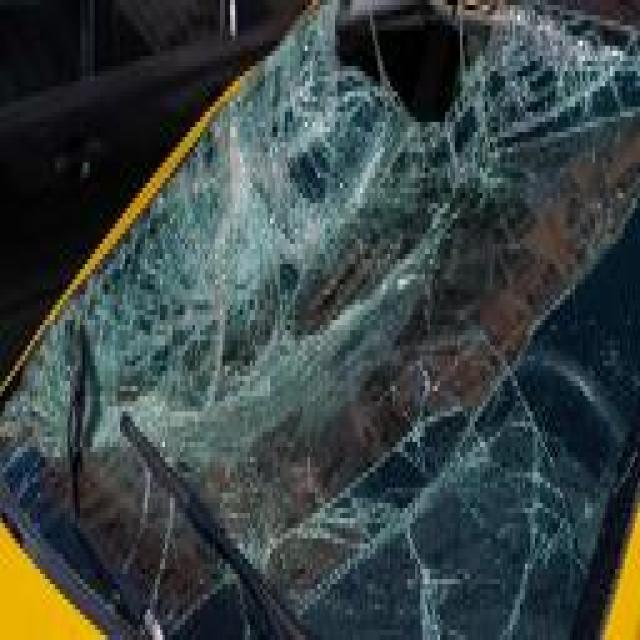Windshield: (10, 0, 640, 640)
